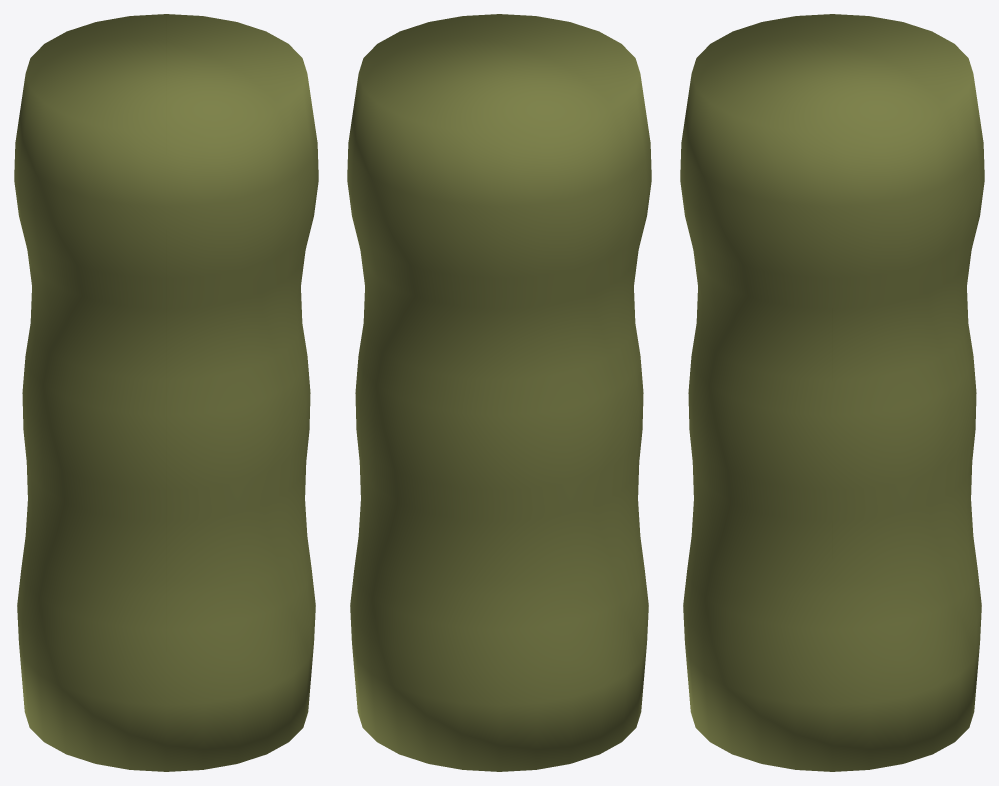
Rendered from sewage.fbx.
3 renders of one model, left to right at view 1: azimuth 30°, elevation 25°; view 2: azimuth 150°, elevation 25°; view 3: azimuth 270°, elevation 25°, orthographic.
Visible parts, largest first — view 1: Sluge; view 2: Sluge; view 3: Sluge.
Part boxes in pixels (bbox=[...]): Sluge: bbox=[14, 14, 318, 771]; Sluge: bbox=[347, 14, 651, 771]; Sluge: bbox=[680, 14, 984, 771].
Size of the model in its own units: 1297 by 3000 by 1297.
